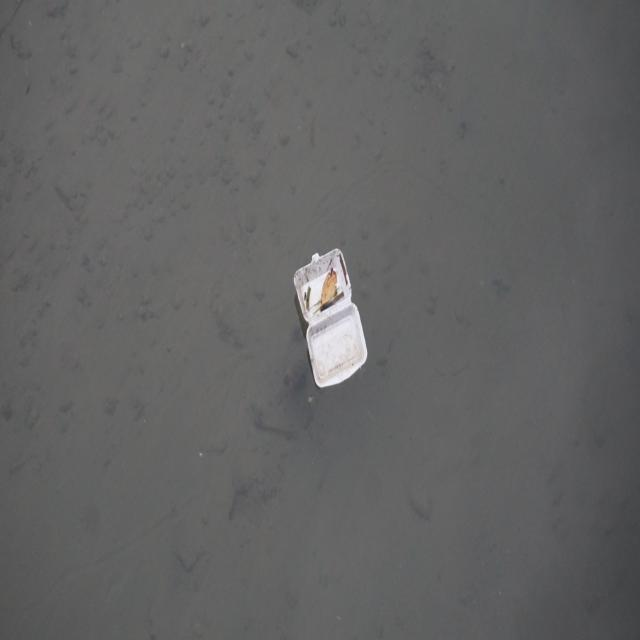Bungkus Makanan: (292, 246, 370, 393)
